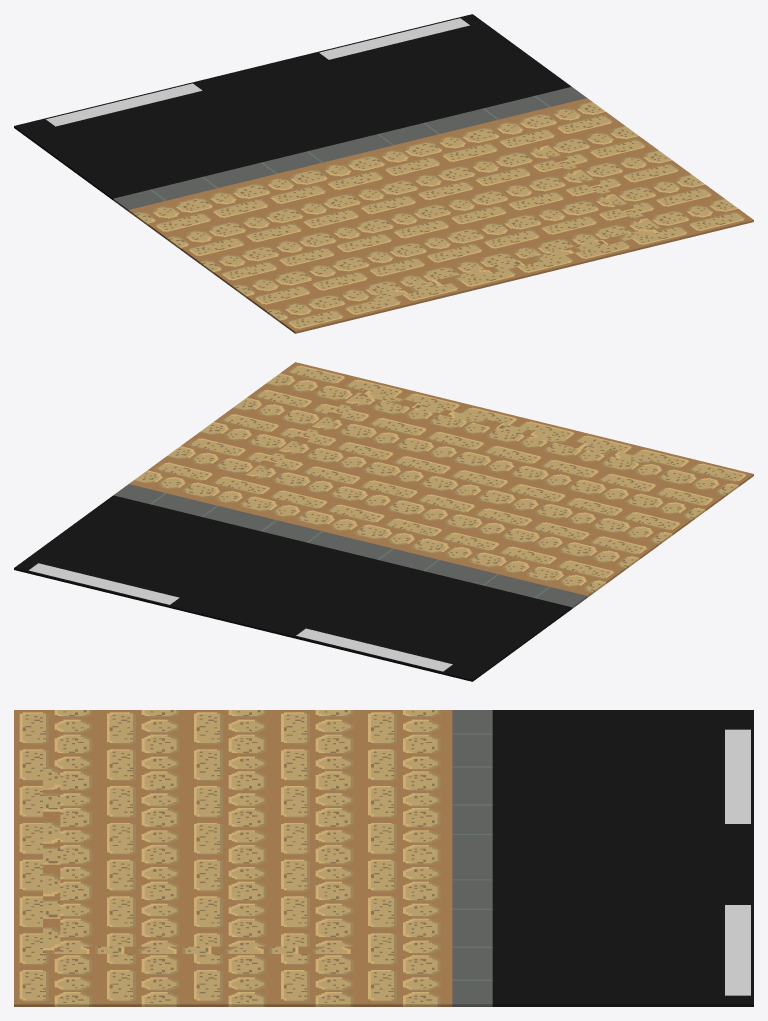
File: busstop-0.obj
The picture shows the model from 3 angles, top to bottom: view 1: azimuth 30°, elevation 25°; view 2: azimuth 150°, elevation 25°; view 3: azimuth 270°, elevation 25°; orthographic projection. The views are drawn at different scales.
Size of the model in its own units: 24 by 0.1 by 25.5.
Materials: 1 (1 with a texture image).
